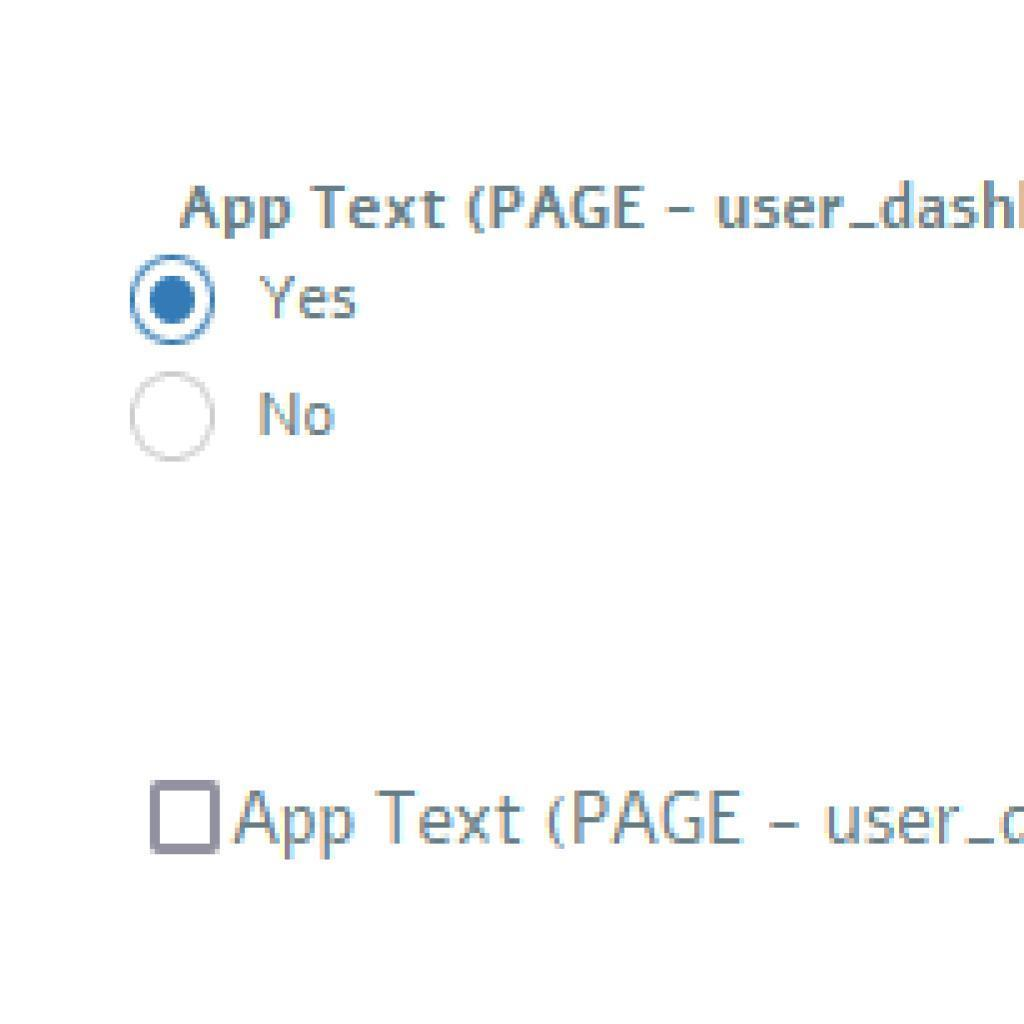checkbox: (149, 777, 224, 860)
label: (252, 267, 364, 326), (254, 385, 346, 449)
radio: (130, 254, 217, 349), (131, 371, 218, 464)
